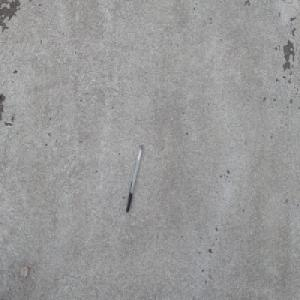Pen: (125, 144, 143, 213)
